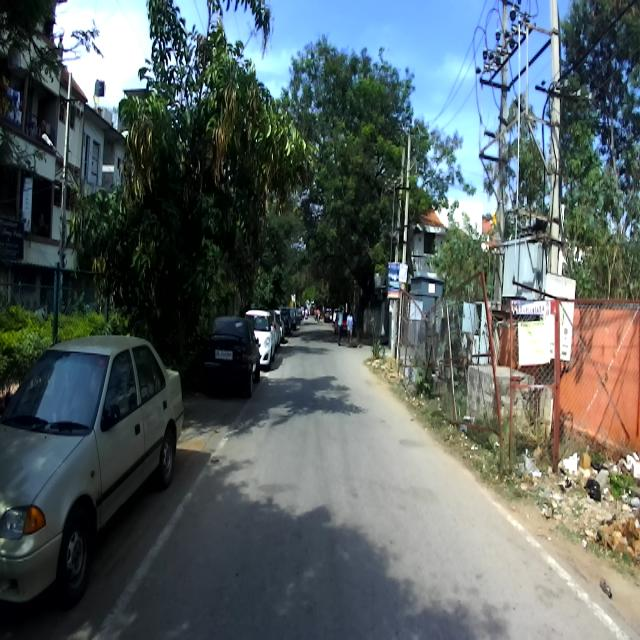car ahead at: (2, 335, 185, 607), (198, 306, 262, 404)
electric pole ahead at: (466, 0, 581, 494)
